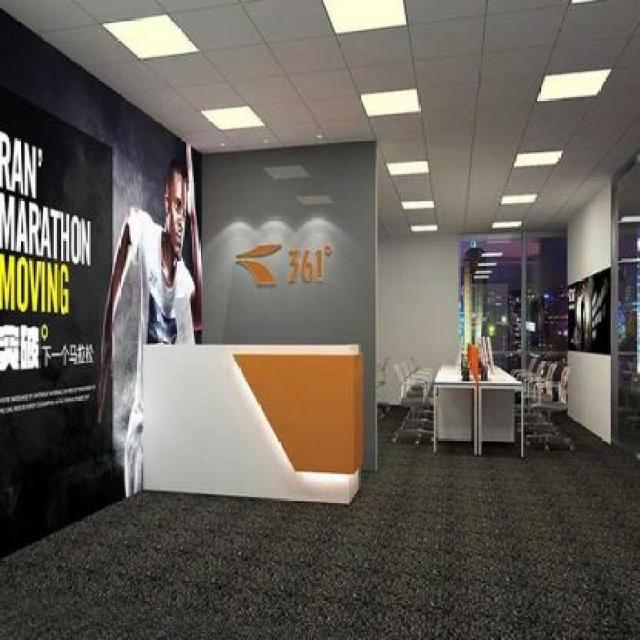frontdesk: (120, 324, 388, 514)
